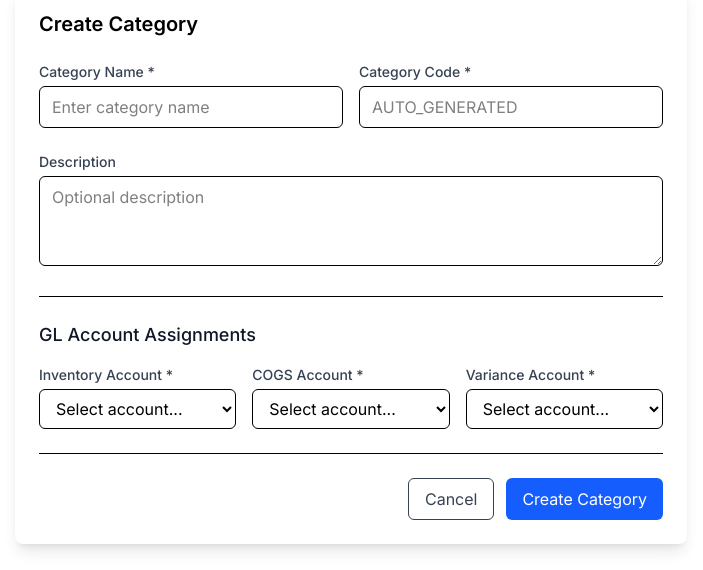
Test: CategoryForm › Create Mode › should auto-generate category code from name
Step 1. Type "Consumer Electronics" into the field labelled "Category Name *" → {"x": 191, "y": 107}, box [39, 86, 343, 128]
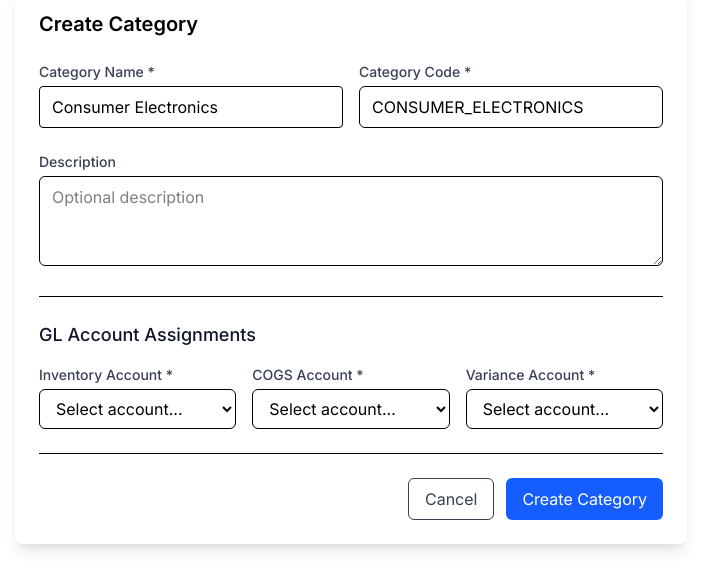
Result: the field labelled "Category Code *" holds "CONSUMER_ELECTRONICS" at [359, 86, 663, 128]
